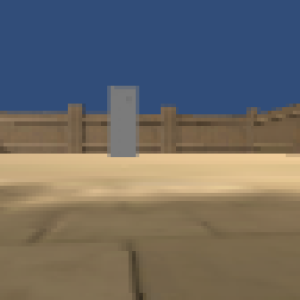wall: (108, 84, 140, 159)
